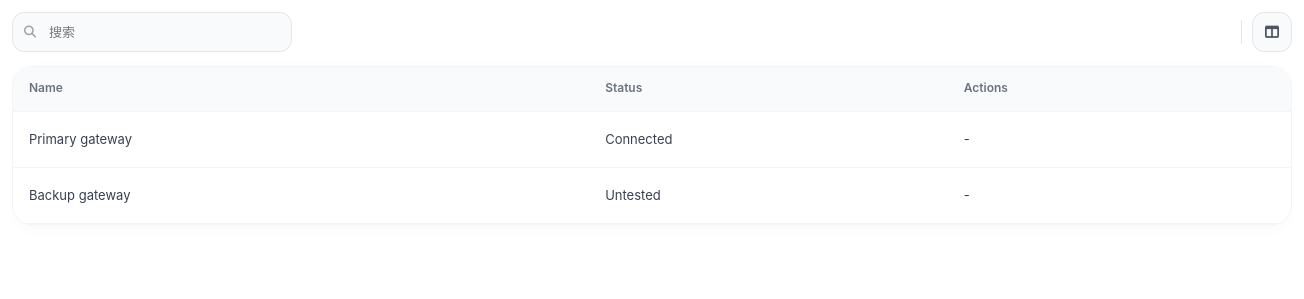
Test: ManagementList › restores default columns and returns focus when the Teleported menu closes with Esc
The width and height of the screenshot is (1304, 299).
Click the button named "列设置" at {"x": 1272, "y": 32}, box 1252,12 -> 1292,52
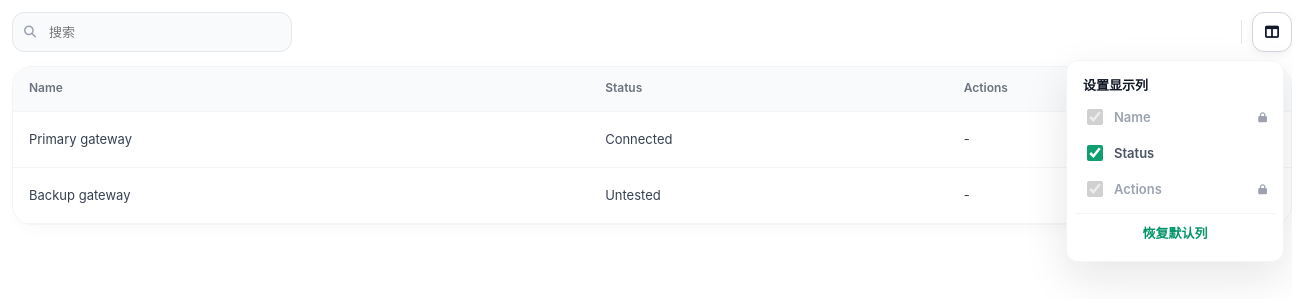
Expected: the element named "表格列设置" is shown, 1066,60 -> 1284,262
Expected: the checkbox labelled "Status" is shown
Click the checkbox labelled "Status" at {"x": 1095, "y": 153}, box 1087,145 -> 1103,161
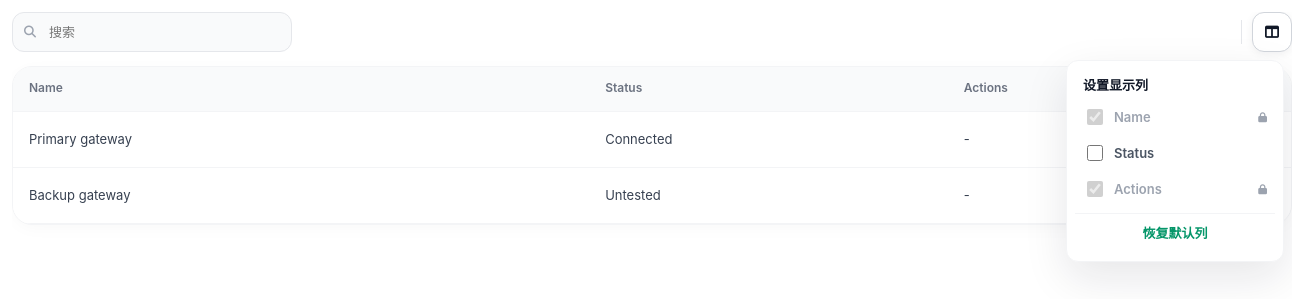
Click the button with aria-label "恢复默认列" at {"x": 1175, "y": 233}, box 1075,213 -> 1275,253
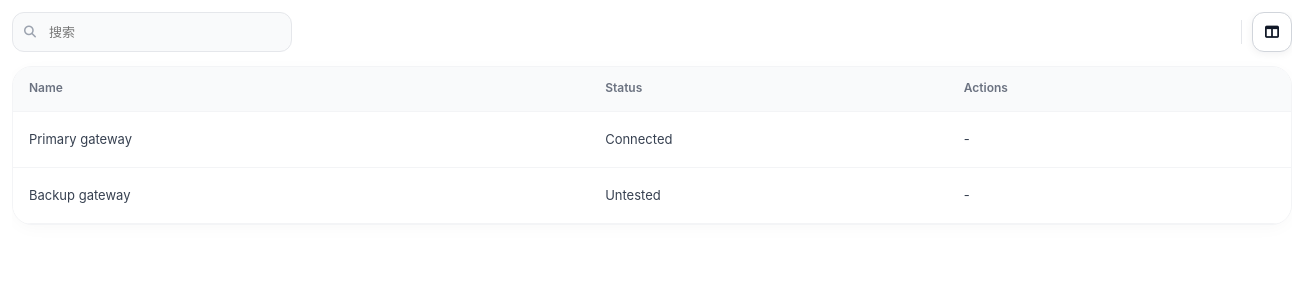
Expected: the element named "表格列设置" is gone
